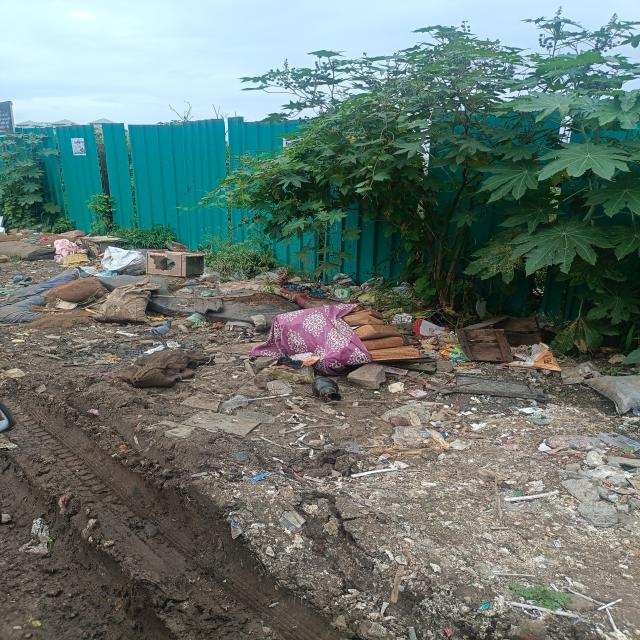garbage: (1, 225, 212, 377), (218, 276, 544, 374)
